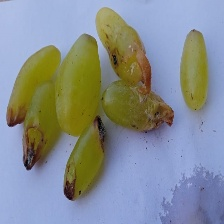grapes: (44, 37, 211, 214)
